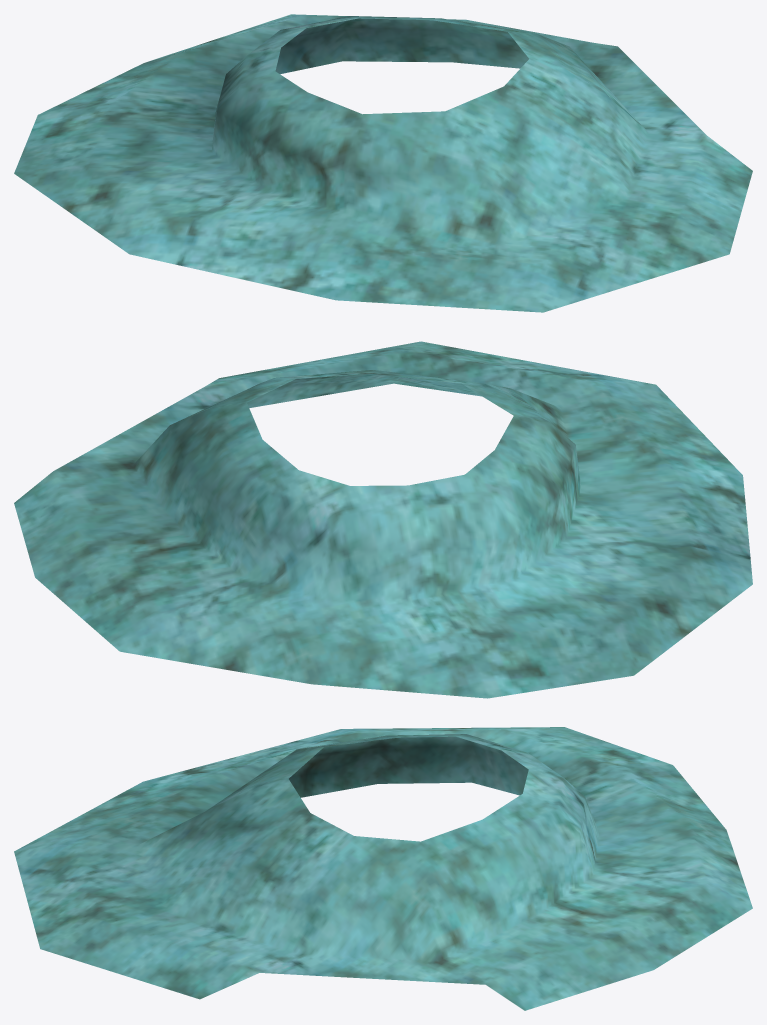
The model's file is EKH_CAVERNS_PS_CA_OBJECT30.fbx.
3 renders of one model, top to bottom at view 1: azimuth 30°, elevation 25°; view 2: azimuth 150°, elevation 25°; view 3: azimuth 270°, elevation 25°, orthographic. The views are drawn at different scales.
Parts seen in each view (by area): view 1: EKH_CAVERNS_PS_CA_OBJECT30; view 2: EKH_CAVERNS_PS_CA_OBJECT30; view 3: EKH_CAVERNS_PS_CA_OBJECT30.
Boxes of the visible parts, x1,y1,x2,y2 form: EKH_CAVERNS_PS_CA_OBJECT30: (14,14,752,312); EKH_CAVERNS_PS_CA_OBJECT30: (14,341,752,698); EKH_CAVERNS_PS_CA_OBJECT30: (14,727,752,1010).
Bounding box in the file's own units: 82976 × 12500 × 91275.
Materials: 1 (1 with a texture image).
